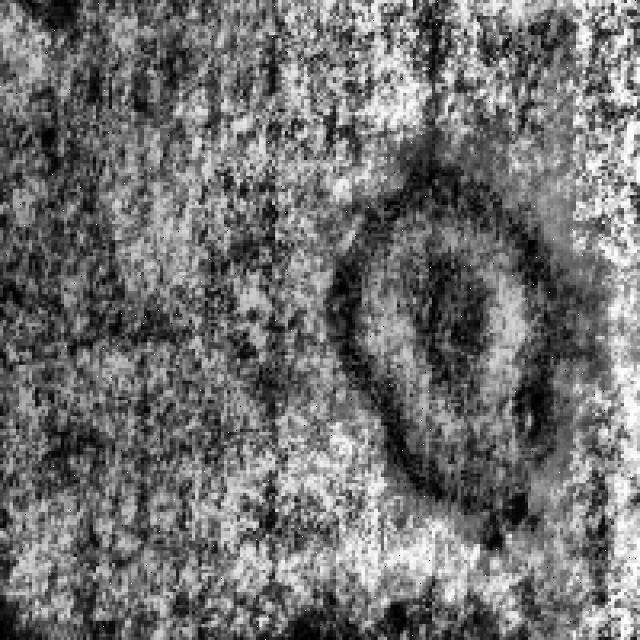Scratches: (323, 141, 573, 518)
